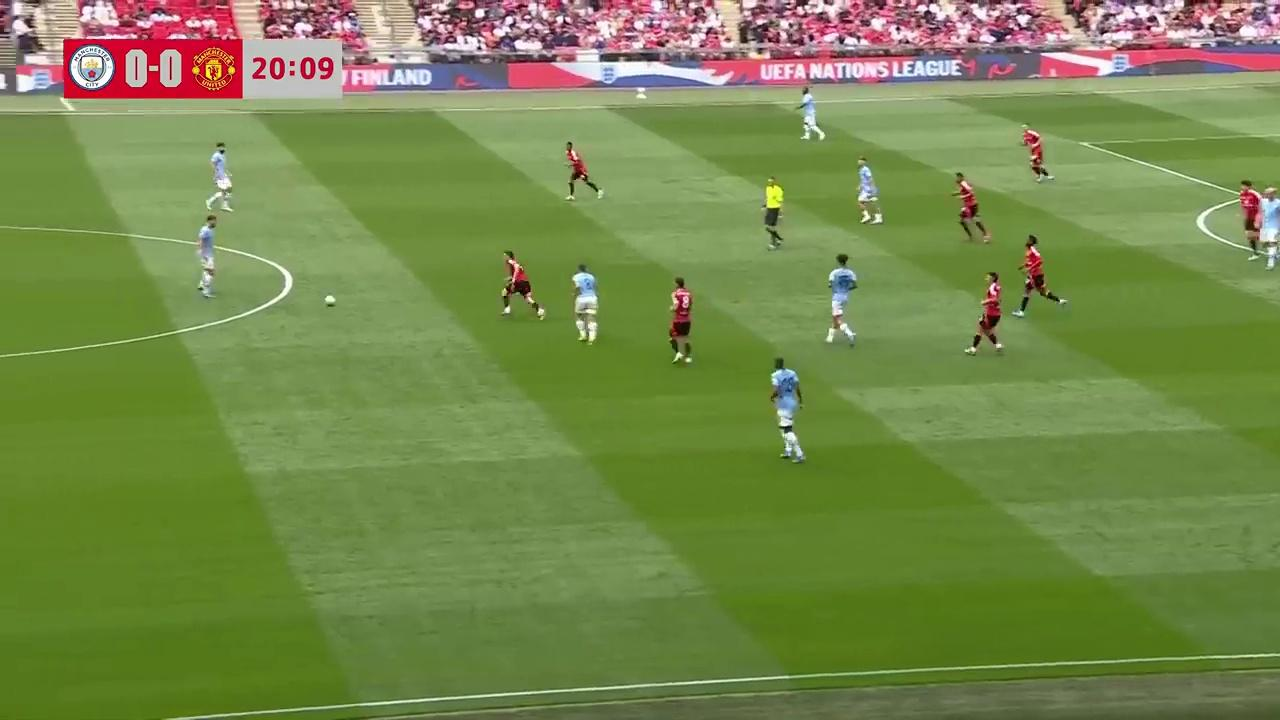ball: (322, 291, 337, 307)
player: (1015, 234, 1067, 316), (768, 357, 806, 463), (965, 271, 1005, 355), (824, 253, 857, 348), (499, 250, 544, 319), (954, 178, 991, 244), (564, 142, 602, 201), (668, 276, 693, 365), (571, 263, 597, 344), (1239, 180, 1264, 260), (195, 214, 218, 299), (1020, 127, 1054, 182), (208, 142, 234, 210), (855, 157, 881, 223), (795, 87, 825, 141), (1261, 186, 1280, 269)
referee: (761, 176, 785, 250)
